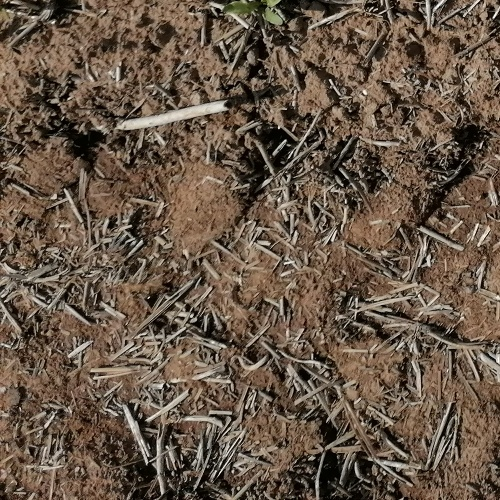beet: (223, 0, 284, 26)
